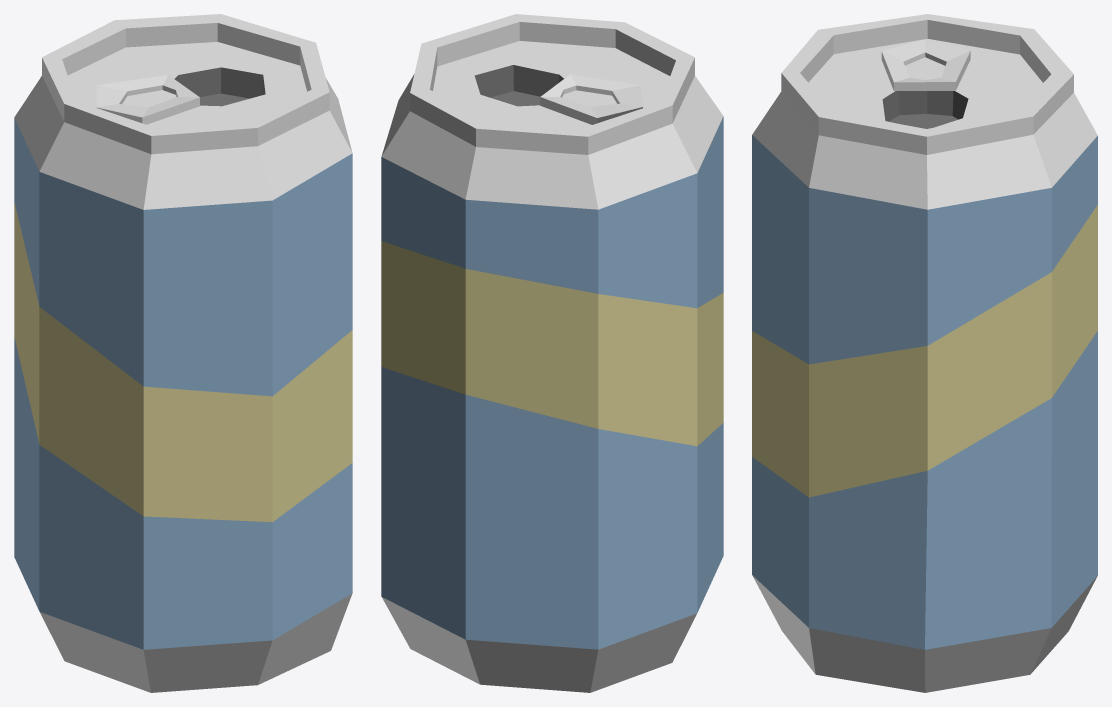
File: Soda_x.fbx
3 renders of one model, left to right at view 1: azimuth 30°, elevation 25°; view 2: azimuth 150°, elevation 25°; view 3: azimuth 270°, elevation 25°, orthographic.
Parts seen in each view (by area): view 1: Cylinder; view 2: Cylinder; view 3: Cylinder.
Part boxes in pixels (box(x1,y1,x2,y2)): Cylinder: box(14, 14, 352, 692); Cylinder: box(381, 14, 723, 692); Cylinder: box(752, 14, 1097, 692).
Size of the model in its own units: 10.94 by 19.5 by 10.95.
